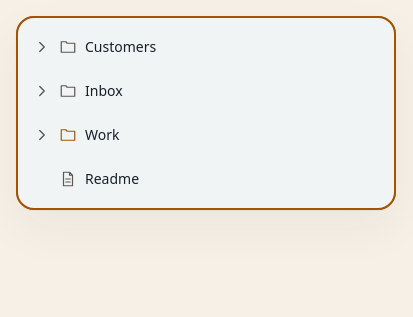
Test: NotesTree › reads a folder only when it is opened, then lists its subfolders before its notes
Click the list item "Customers".
click(95, 47)  # box [33,37,156,56]
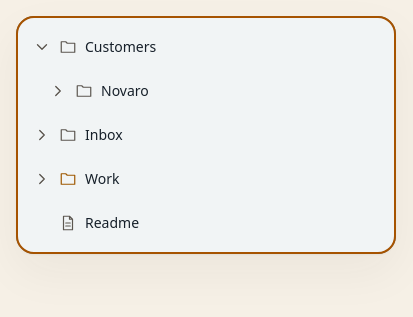
expect the list item "Novaro" is shown: met, box [49,81,149,100]
expect the list item "Customers" is expanded: met, box [33,37,156,56]
Click the list item "Inbox".
click(78, 135)  # box [33,125,123,144]
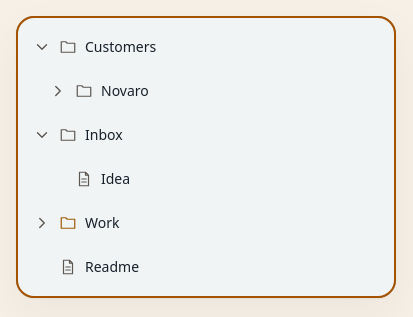
expect the list item "Idea" is shown: met, box [75,169,130,188]
Click the list item "Inbox".
click(78, 135)  # box [33,125,123,144]
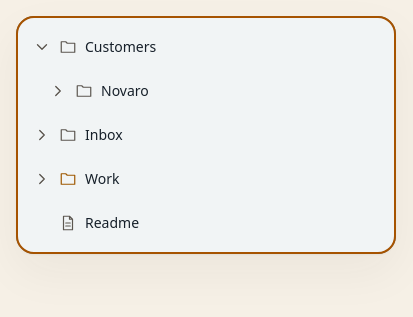
expect the text "Idea" is gone: met
Click the list item "Inbox".
click(78, 135)  # box [33,125,123,144]
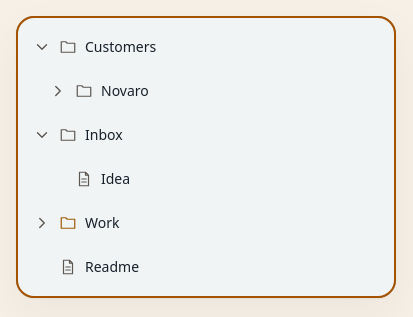
expect the list item "Idea" is shown: met, box [75,169,130,188]
